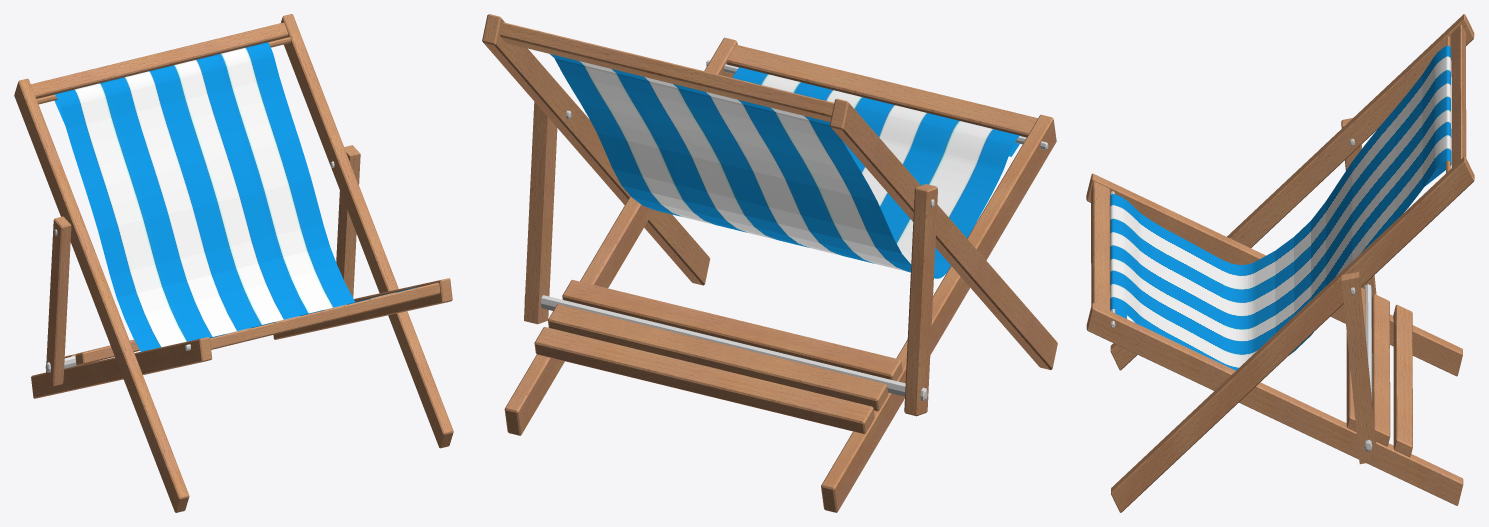
The model's file is sh-bs0-deck-chair.glb.
The picture shows the model from 3 angles, left to right: view 1: azimuth 30°, elevation 25°; view 2: azimuth 150°, elevation 25°; view 3: azimuth 270°, elevation 25°; orthographic projection. The views are drawn at different scales.
Visible parts, largest first — view 1: Chair.002_Group1.002; view 2: Chair.002_Group1.002; view 3: Chair.002_Group1.002.
Part boxes in pixels (x1,y1,x2,y2): Chair.002_Group1.002: (14, 14, 453, 512); Chair.002_Group1.002: (482, 14, 1057, 512); Chair.002_Group1.002: (1086, 14, 1474, 512).
Bounding box in the file's own units: 1 × 1 × 1.
Materials: 3 (2 with a texture image).
